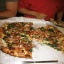pizza: (1, 21, 64, 56)
